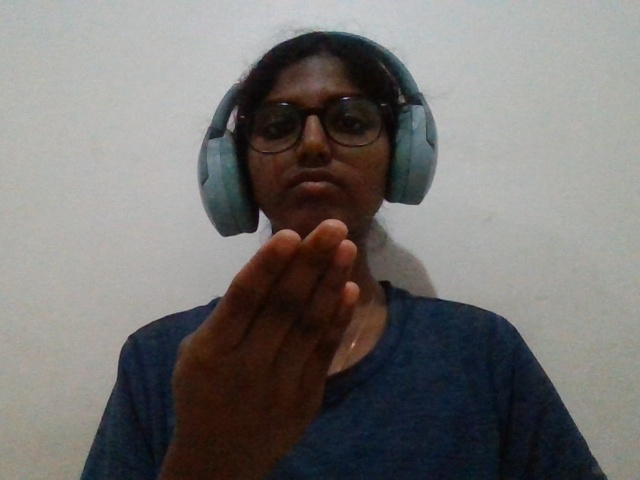Thanks: (152, 191, 389, 461)
